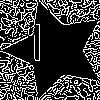I: (30, 25, 45, 70)
